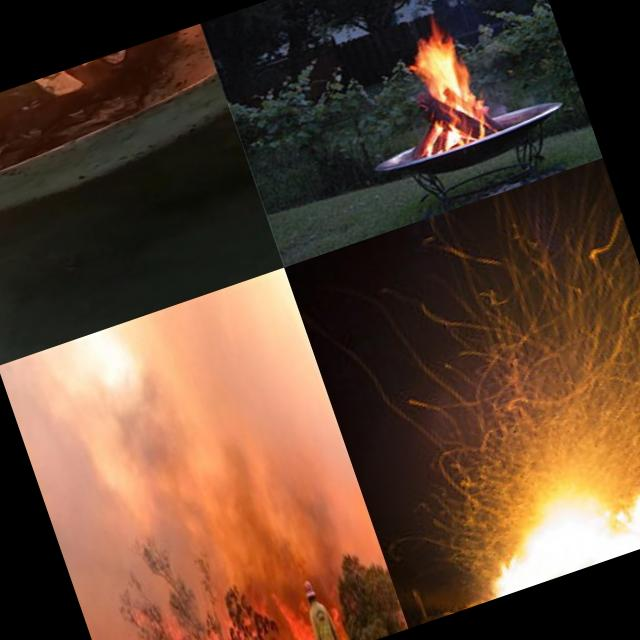fire: (450, 447, 640, 604), (390, 16, 496, 150), (229, 610, 318, 640)
smoke: (208, 462, 355, 626)
